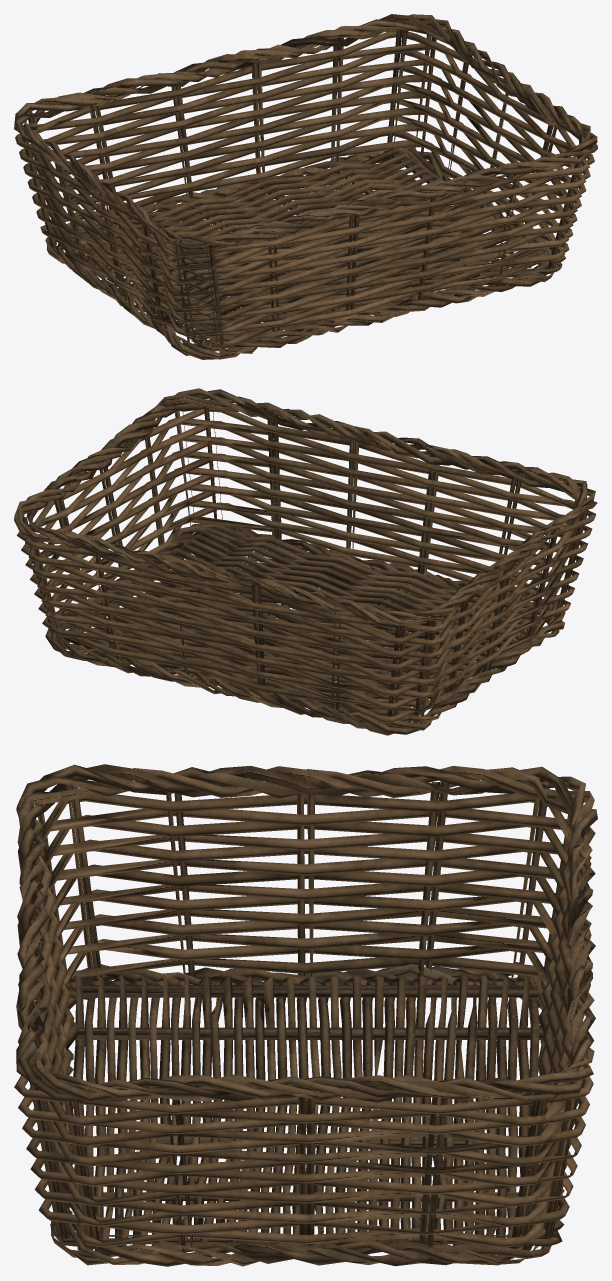
Rendered from wicker_basket_01_1k.gltf.
3 renders of one model, top to bottom at view 1: azimuth 30°, elevation 25°; view 2: azimuth 150°, elevation 25°; view 3: azimuth 270°, elevation 25°, orthographic. The views are drawn at different scales.
Parts seen in each view (by area): view 1: wicker_basket_01; view 2: wicker_basket_01; view 3: wicker_basket_01.
Part boxes in pixels (x1,y1,x2,y2): wicker_basket_01: (14, 14, 597, 359); wicker_basket_01: (14, 388, 597, 735); wicker_basket_01: (14, 764, 597, 1266).
Bounding box in the file's own units: 0.383 × 0.1174 × 0.2939.
1 material, 1 textured.
